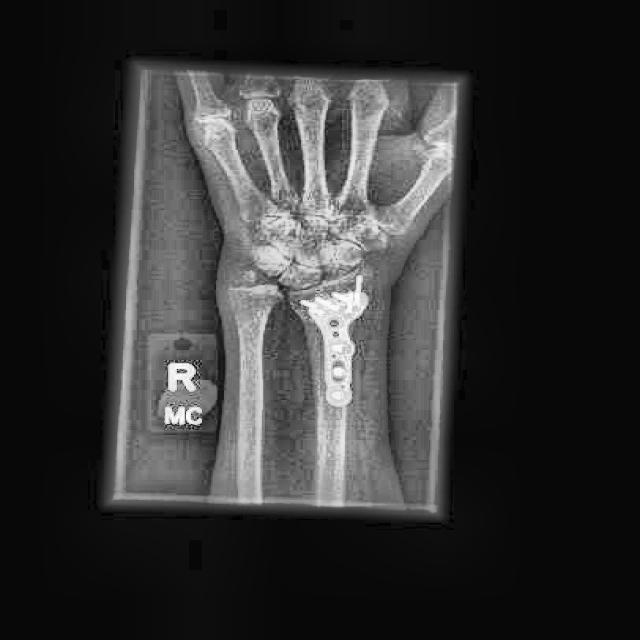fingers positive: (204, 264, 324, 310), (243, 203, 311, 247)
